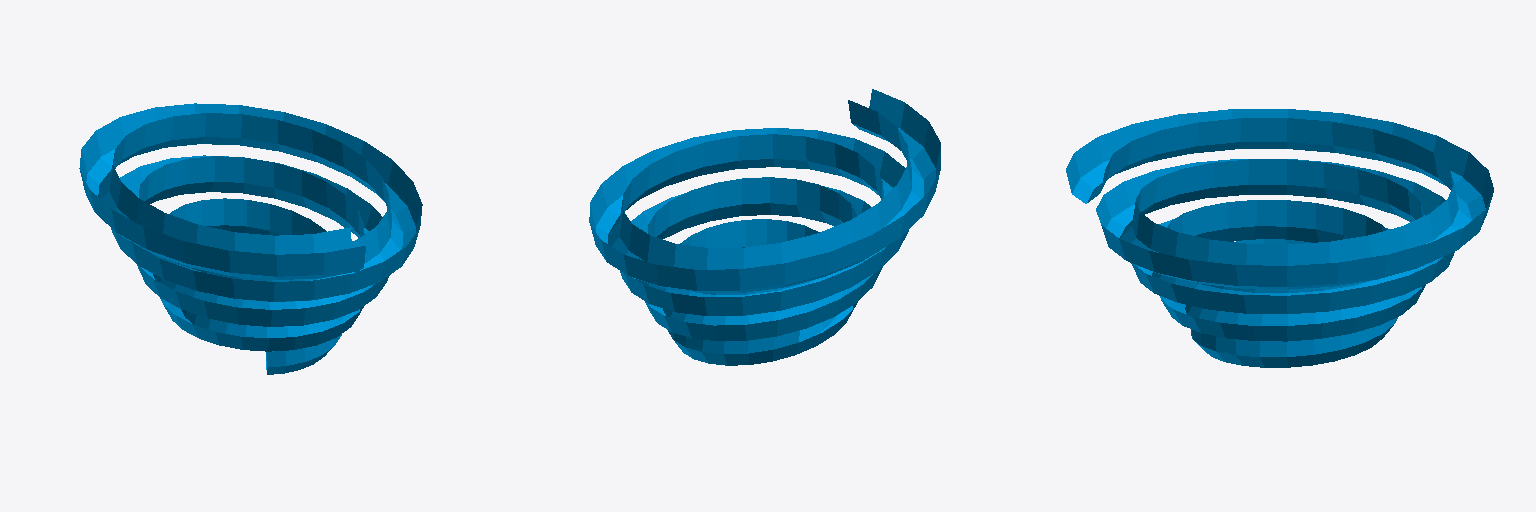
The picture shows the model from 3 angles: view 1: azimuth 30°, elevation 25°; view 2: azimuth 150°, elevation 25°; view 3: azimuth 270°, elevation 25°; orthographic projection.
Visible parts, largest first — view 1: Spiral_Mesh; view 2: Spiral_Mesh; view 3: Spiral_Mesh.
Part boxes in pixels (left/top/right/bottom): Spiral_Mesh: left=79, top=103, right=422, bottom=374; Spiral_Mesh: left=589, top=89, right=940, bottom=365; Spiral_Mesh: left=1066, top=109, right=1493, bottom=367.
Size of the model in its own units: 85.96 by 52.96 by 113.
Materials: 1 (1 with a texture image).